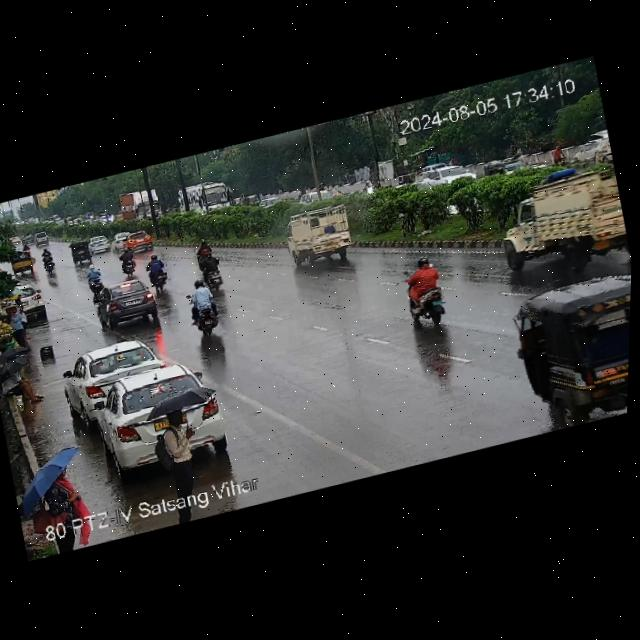bus: (177, 176, 237, 220)
car: (498, 266, 631, 437), (80, 358, 222, 471), (58, 332, 167, 416), (94, 276, 159, 334), (0, 277, 51, 328), (422, 158, 476, 189), (574, 135, 613, 165), (480, 155, 523, 178), (122, 226, 157, 254), (66, 239, 93, 268), (8, 250, 35, 276), (86, 232, 110, 255), (107, 231, 128, 254), (35, 231, 50, 246), (21, 233, 34, 245)
motorcycle: (397, 253, 460, 331), (188, 250, 233, 293), (144, 251, 178, 293), (113, 246, 141, 275), (83, 260, 104, 292), (36, 246, 59, 274), (552, 143, 568, 169), (20, 242, 32, 258), (363, 180, 372, 193), (403, 172, 413, 183)
person: (155, 401, 211, 496), (35, 465, 90, 521), (0, 362, 44, 410), (4, 300, 32, 353), (12, 295, 30, 329)
truck: (491, 162, 630, 274), (283, 194, 367, 269), (116, 185, 164, 225)
